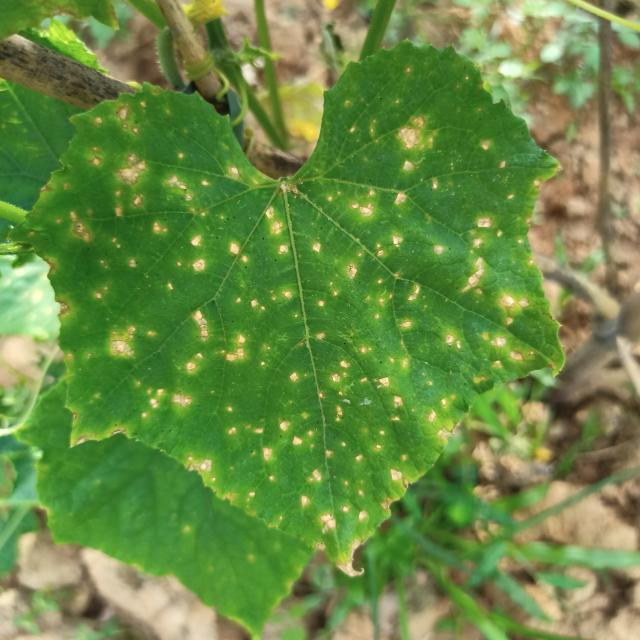disease_cucumber: (100, 308, 486, 553), (31, 99, 306, 390), (283, 93, 564, 363)
